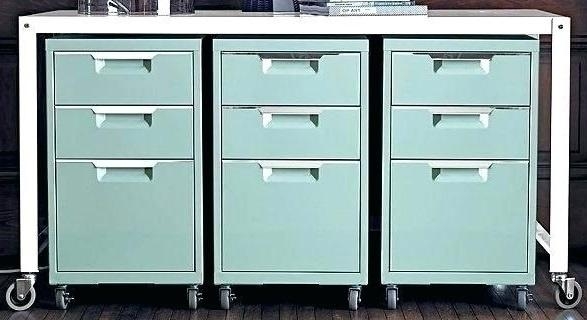cabinet_door: (222, 160, 361, 272), (392, 160, 528, 272), (58, 160, 194, 271), (226, 46, 362, 104), (392, 50, 528, 104), (57, 106, 195, 157), (56, 52, 195, 102), (223, 107, 362, 157), (392, 108, 529, 156)
handle: (261, 161, 321, 186), (430, 162, 491, 183), (260, 55, 321, 74), (95, 54, 152, 74), (98, 164, 153, 182), (433, 58, 490, 75), (434, 111, 489, 128), (95, 110, 153, 126), (261, 111, 322, 126)
